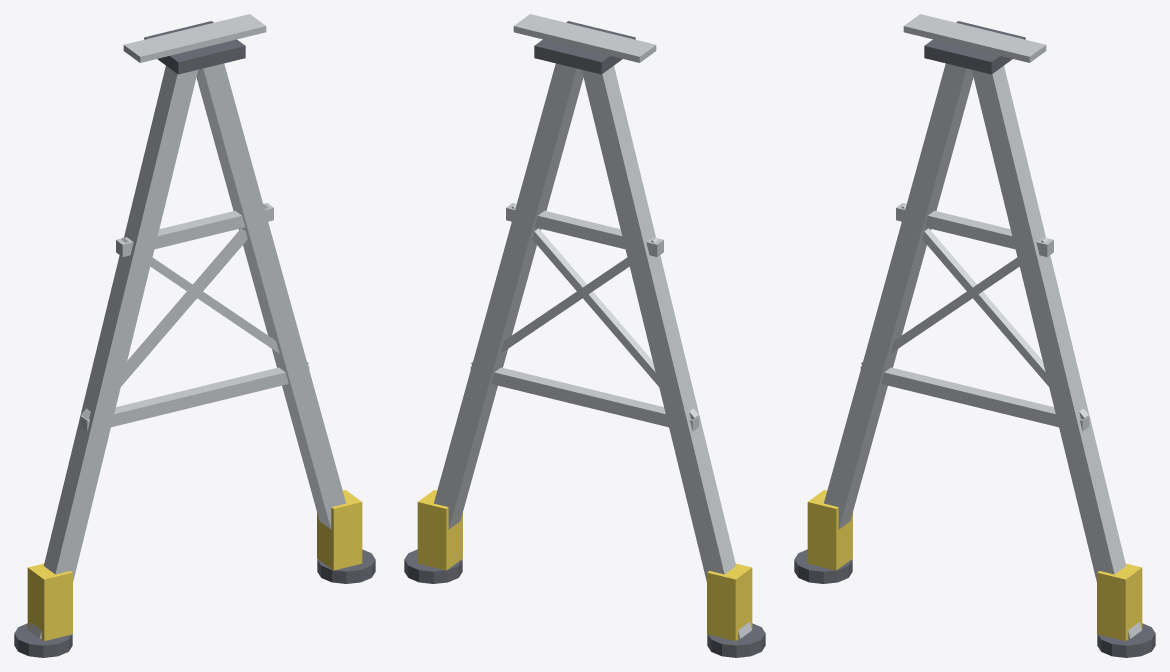
File: theme-park-rides-and-coasters-theme-park-rides-and-coa-54432161__28640.glb
3 renders of one model, left to right at view 1: azimuth 30°, elevation 25°; view 2: azimuth 150°, elevation 25°; view 3: azimuth 330°, elevation 25°, orthographic.
Parts seen in each view (by area): view 1: theme-park-rides-and-coasters-support-a-frame; view 2: theme-park-rides-and-coasters-support-a-frame; view 3: theme-park-rides-and-coasters-support-a-frame.
Part boxes in pixels (bbox=[...]): theme-park-rides-and-coasters-support-a-frame: bbox=[14, 14, 375, 657]; theme-park-rides-and-coasters-support-a-frame: bbox=[404, 14, 765, 657]; theme-park-rides-and-coasters-support-a-frame: bbox=[794, 14, 1155, 657].
Bounding box in the file's own units: 4.2 × 6.51 × 0.6997.
